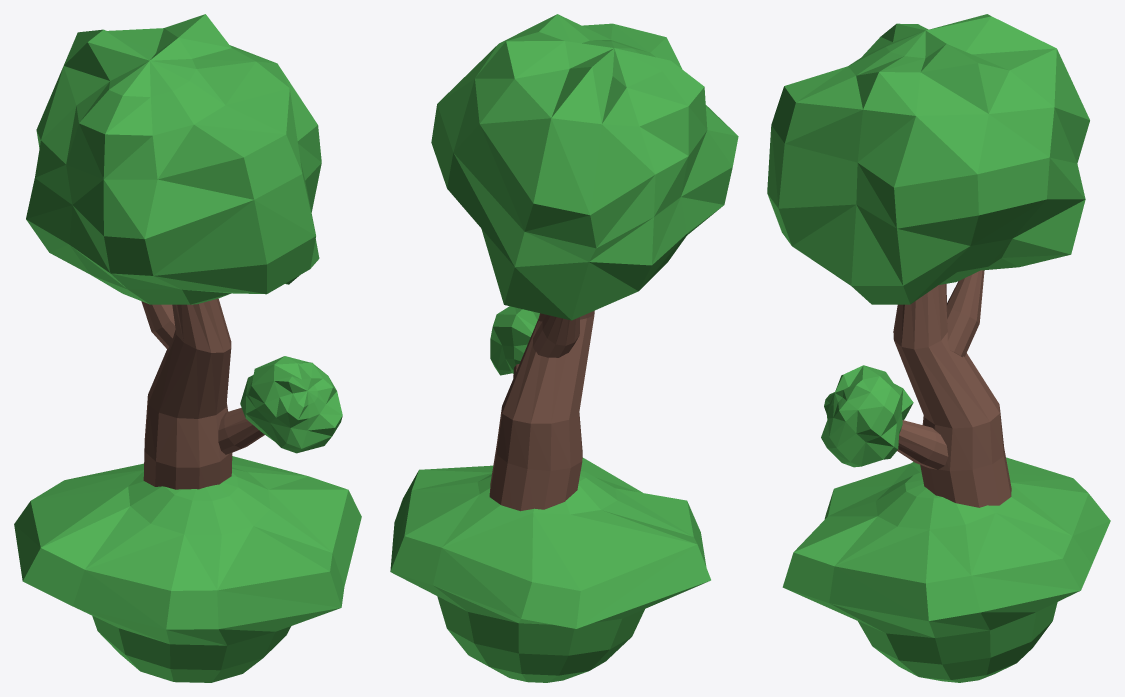
The model's file is tree.fbx.
3 views of the same model, side by side, from view 1: azimuth 30°, elevation 25°; view 2: azimuth 150°, elevation 25°; view 3: azimuth 270°, elevation 25° (orthographic). The views are drawn at different scales.
Visible parts, largest first — view 1: mesh_1670450220, mesh_1110397013, mesh_1007827474, mesh_283277878, mesh_1357769841, mesh_885723267; view 2: mesh_1670450220, mesh_1110397013, mesh_1007827474, mesh_283277878, mesh_885723267; view 3: mesh_1670450220, mesh_1110397013, mesh_1007827474, mesh_283277878, mesh_885723267, mesh_1357769841.
Boxes of the visible parts, left/top/right/bottom form: mesh_1670450220: left=26, top=14, right=321, bottom=304; mesh_1110397013: left=14, top=456, right=361, bottom=682; mesh_1007827474: left=143, top=298, right=232, bottom=489; mesh_283277878: left=240, top=356, right=342, bottom=453; mesh_1357769841: left=218, top=408, right=264, bottom=454; mesh_885723267: left=141, top=301, right=175, bottom=349; mesh_1670450220: left=431, top=14, right=738, bottom=320; mesh_1110397013: left=390, top=457, right=710, bottom=682; mesh_1007827474: left=489, top=310, right=594, bottom=511; mesh_283277878: left=490, top=306, right=539, bottom=375; mesh_885723267: left=533, top=315, right=579, bottom=357; mesh_1670450220: left=767, top=14, right=1089, bottom=304; mesh_1110397013: left=782, top=457, right=1110, bottom=682; mesh_1007827474: left=893, top=284, right=1011, bottom=507; mesh_283277878: left=821, top=365, right=913, bottom=467; mesh_885723267: left=947, top=270, right=984, bottom=357; mesh_1357769841: left=897, top=420, right=948, bottom=469.
Size of the model in its own units: 187 by 355 by 177.
